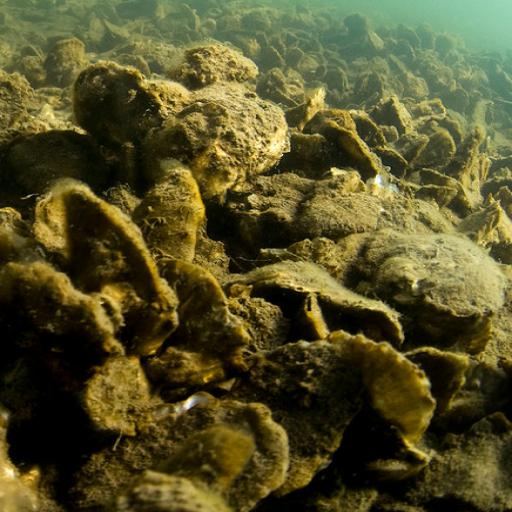Oyster-Closed: (65, 186, 183, 362), (234, 342, 370, 493), (142, 77, 290, 198), (1, 257, 125, 377), (236, 262, 411, 339), (325, 330, 436, 445), (370, 227, 506, 317), (1, 129, 119, 204), (77, 348, 164, 431), (79, 67, 162, 153), (124, 167, 194, 266), (158, 260, 231, 352)
Oyster-Open: (57, 389, 290, 512)
